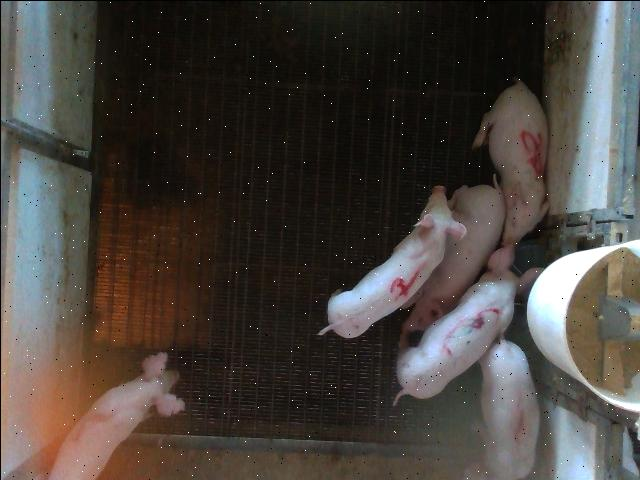pig-1: (479, 331, 541, 479)
pig-2: (48, 351, 184, 479)
pig-3: (391, 244, 542, 401)
pig-4: (318, 188, 466, 337)
pig-5: (471, 78, 548, 242)
